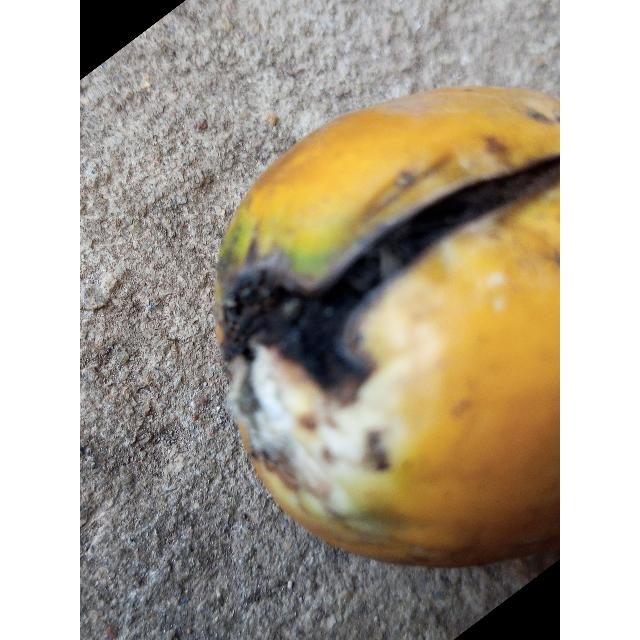damaged: (215, 87, 560, 566)
